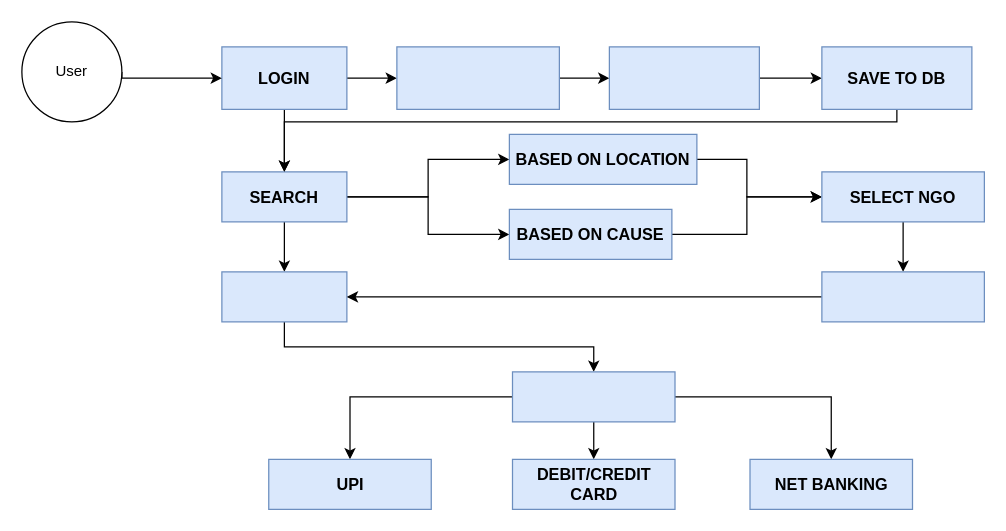
Image size: 1006x531. Some labels were removed from this diagram. Here are the shapes that lost their labels. From the top down, the box of each, then its label:
(396, 46, 559, 109): ACCESS PROFILE
(608, 46, 759, 109): EDIT PROFILE
(221, 271, 347, 322): DONATE
(821, 271, 984, 322): CLICK DONATE
(511, 371, 675, 422): SELECT PAYMENT METHOD
